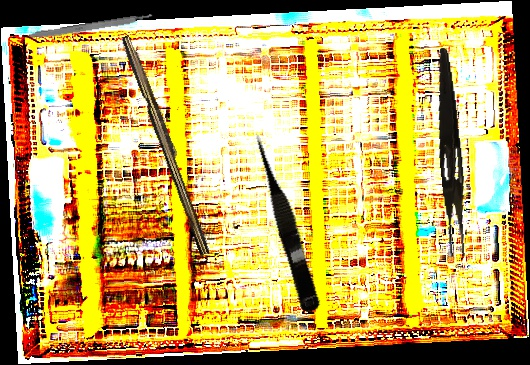Dressing Forceps: (428, 47, 473, 259)
Micro Scissor: (248, 128, 325, 315)
Scalpel Handle: (117, 33, 217, 256), (24, 12, 154, 43)
